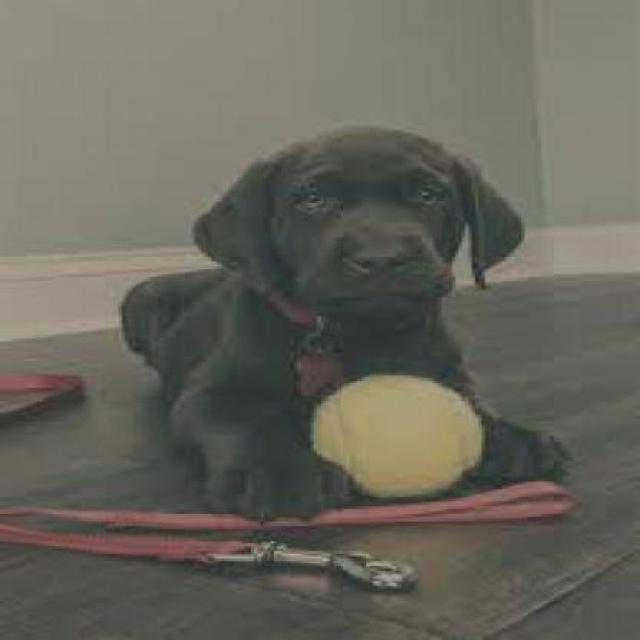Tennis_Ball: (317, 378, 483, 502)
